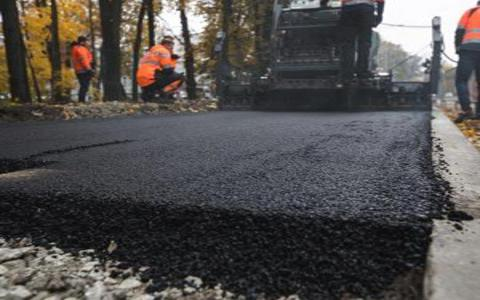Proper road: (62, 117, 438, 217)
